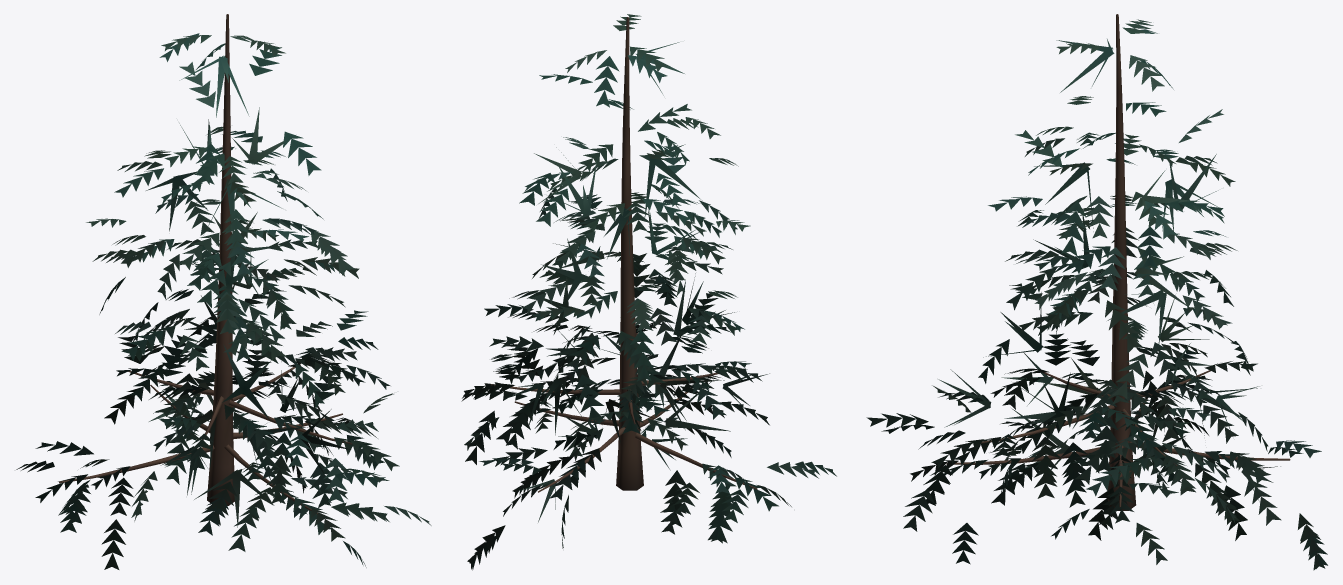
File: spruce-a.lod1.glb
3 views of the same model, side by side, from view 1: azimuth 30°, elevation 25°; view 2: azimuth 150°, elevation 25°; view 3: azimuth 270°, elevation 25° (orthographic). The views are drawn at different scales.
Size of the model in its own units: 8.57 by 12.24 by 9.78.
